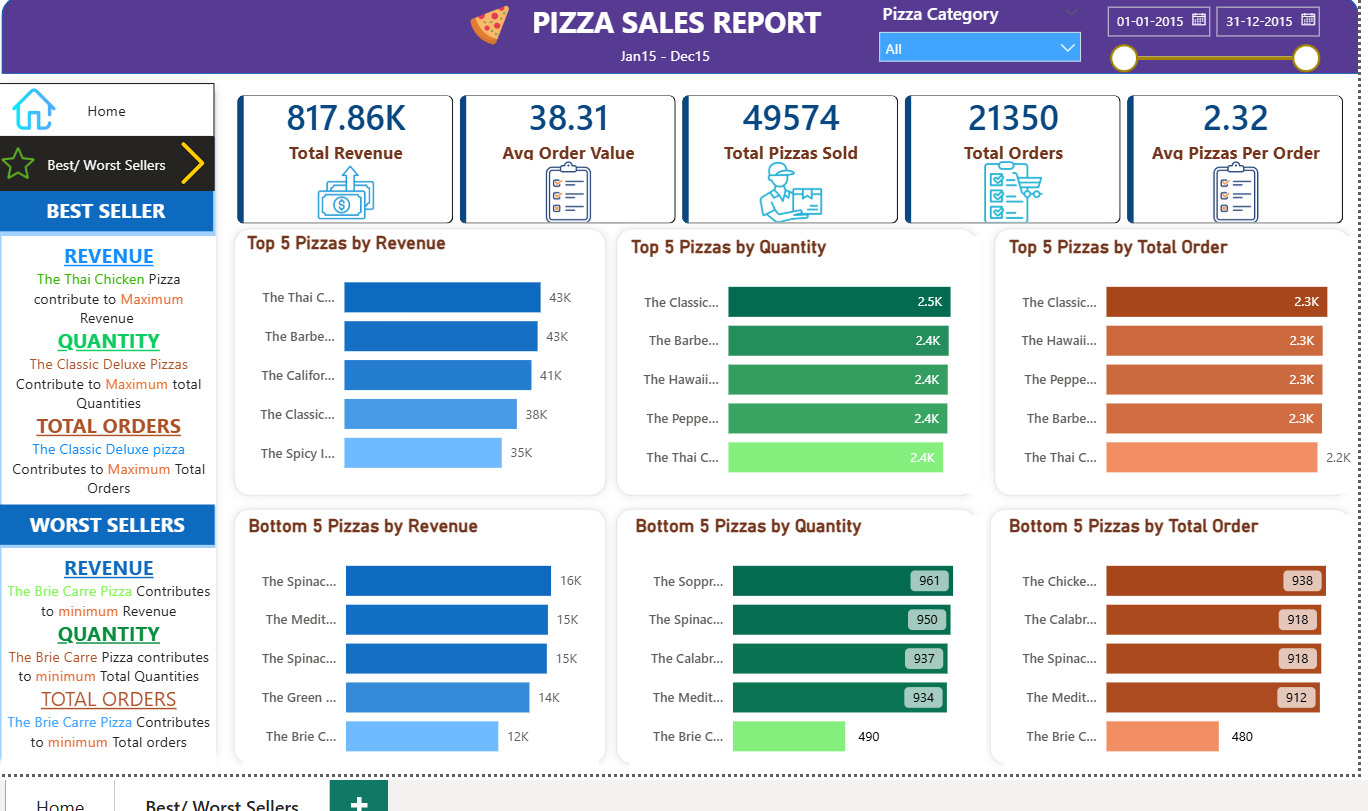

This screenshot's page, from the dashboard's own definition file:
{"tool":"powerbi","page":{"name":"Best/ Worst Sellers","canvas":[1280,720],"ordinal":1},"visuals":[{"type":"cardVisual","fields":{"Data":["pizza_sales.Total Revenue","pizza_sales.Avg Order Value","pizza_sales.Total Pizzas Sold","pizza_sales.Total Orders","pizza_sales.Avg Pizzas Per Order"]},"box":[230.6,80.6,1050,141.7],"z":0},{"type":"shape","box":[23.6,0,1256.9,72.2],"z":1000},{"type":"textbox","box":[509.7,0,294.4,63.9],"z":2000},{"type":"textbox","box":[591.7,40.3,95.8,31.9],"z":3000},{"type":"image","box":[441.7,8.3,68.1,37.5],"z":4000},{"type":"shape","box":[230.6,206.9,361.1,263.9],"z":5000},{"type":"shape","box":[934.7,206.9,345.8,263.9],"z":6000},{"type":"shape","box":[230.6,466.7,361.1,252.8],"z":7000},{"type":"shape","box":[584.7,466.7,350,252.8],"z":8000},{"type":"shape","box":[930.6,466.7,350,252.8],"z":9000},{"type":"shape","box":[11.1,72.2,219.4,647.2],"z":10000},{"type":"textbox","box":[20.8,180.6,198.6,37.5],"z":11000},{"type":"textbox","box":[23.6,222.2,198.6,250],"z":12000},{"type":"textbox","box":[23.6,511.1,198.6,208.3],"z":13000},{"type":"slicer","fields":{"Values":["pizza_sales.order_date"]},"box":[1034.7,0,218.1,72.2],"z":14000},{"type":"slicer","fields":{"Values":["pizza_sales.pizza_category"]},"box":[826.4,0,206.9,63.9],"z":15000},{"type":"shape","box":[584.7,206.9,350,263.9],"z":16000},{"type":"barChart","title":"Top 5 Pizzas by Revenue","fields":{"Category":["pizza_sales.pizza_name"],"Y":["pizza_sales.Total Revenue"]},"box":[245.8,218.1,329.2,238.9],"z":17000},{"type":"barChart","title":"Bottom 5 Pizzas by Revenue","fields":{"Category":["pizza_sales.pizza_name"],"Y":["pizza_sales.Total Revenue"]},"box":[247.2,480.6,329.2,238.9],"z":18000},{"type":"barChart","title":"Top 5 Pizzas by Quantity","fields":{"Category":["pizza_sales.pizza_name"],"Y":["pizza_sales.Total Pizzas Sold"]},"box":[601.4,222.2,329.2,238.9],"z":19000},{"type":"barChart","title":"Bottom 5 Pizzas by Quantity","fields":{"Category":["pizza_sales.pizza_name"],"Y":["pizza_sales.Total Pizzas Sold"]},"box":[605.6,480.6,329.2,238.9],"z":20000},{"type":"barChart","title":"Top 5 Pizzas by Total Order","fields":{"Category":["pizza_sales.pizza_name"],"Y":["pizza_sales.Total Orders"]},"box":[951.4,222.2,329.2,238.9],"z":21000},{"type":"barChart","title":"Bottom 5 Pizzas by Total Order","fields":{"Category":["pizza_sales.pizza_name"],"Y":["pizza_sales.Total Orders"]},"box":[951.4,480.6,329.2,238.9],"z":22000},{"type":"textbox","box":[22.2,470.8,198.6,37.5],"z":23000},{"type":"pageNavigator","box":[20.8,130.6,200,50],"z":24000},{"type":"pageNavigator","box":[20.8,80.6,200,50],"z":25000},{"type":"image","box":[23.6,84.7,59.7,40.3],"z":26000},{"type":"image","box":[170.8,134.7,59.7,40.3],"z":27000},{"type":"image","box":[23.6,134.7,30.6,40.3],"z":28000}]}

Visuals, with their boxes on the page's 1280x720 design canvas (x1, y1, x2, y2). These are canvas units, not pixel positions in the 1368x811 screenshot, which may show the page scaled, cropped or inside an application window:
cardVisual - pizza_sales.Total Revenue x pizza_sales.Avg Order Value: <region>231, 81, 1281, 222</region>
shape: <region>24, 0, 1280, 72</region>
textbox: <region>510, 0, 804, 64</region>
textbox: <region>592, 40, 688, 72</region>
image: <region>442, 8, 510, 46</region>
shape: <region>231, 207, 592, 471</region>
shape: <region>935, 207, 1280, 471</region>
shape: <region>231, 467, 592, 720</region>
shape: <region>585, 467, 935, 720</region>
shape: <region>931, 467, 1281, 720</region>
shape: <region>11, 72, 230, 719</region>
textbox: <region>21, 181, 219, 218</region>
textbox: <region>24, 222, 222, 472</region>
textbox: <region>24, 511, 222, 719</region>
slicer - pizza_sales.order_date: <region>1035, 0, 1253, 72</region>
slicer - pizza_sales.pizza_category: <region>826, 0, 1033, 64</region>
shape: <region>585, 207, 935, 471</region>
"Top 5 Pizzas by Revenue" barChart: <region>246, 218, 575, 457</region>
"Bottom 5 Pizzas by Revenue" barChart: <region>247, 481, 576, 720</region>
"Top 5 Pizzas by Quantity" barChart: <region>601, 222, 931, 461</region>
"Bottom 5 Pizzas by Quantity" barChart: <region>606, 481, 935, 720</region>
"Top 5 Pizzas by Total Order" barChart: <region>951, 222, 1281, 461</region>
"Bottom 5 Pizzas by Total Order" barChart: <region>951, 481, 1281, 720</region>
textbox: <region>22, 471, 221, 508</region>
pageNavigator: <region>21, 131, 221, 181</region>
pageNavigator: <region>21, 81, 221, 131</region>
image: <region>24, 85, 83, 125</region>
image: <region>171, 135, 230, 175</region>
image: <region>24, 135, 54, 175</region>
